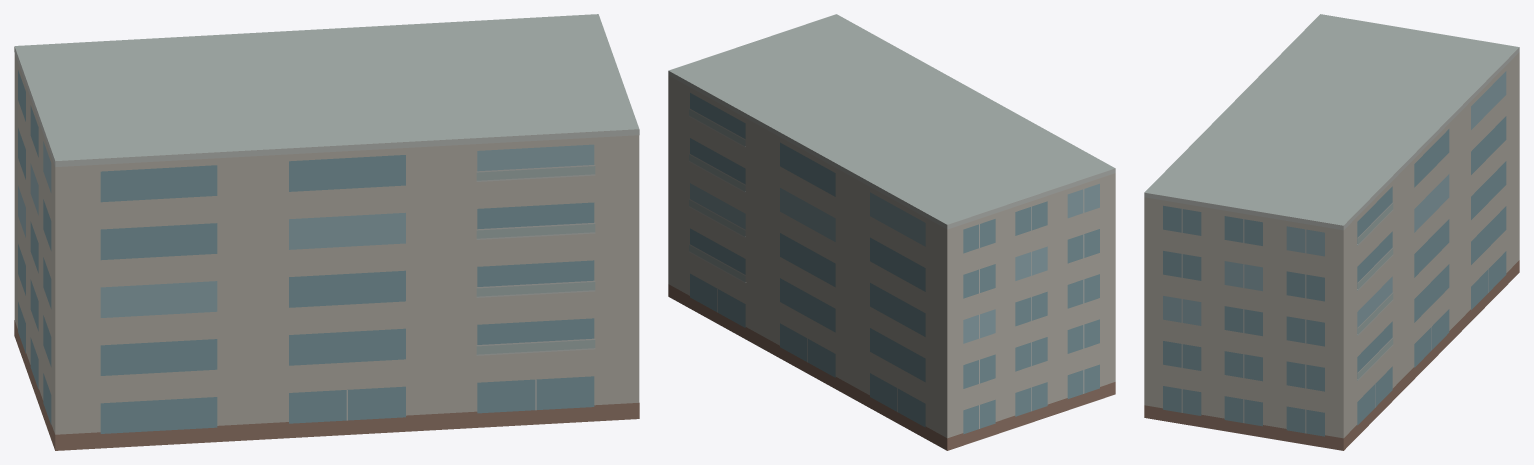
The model's file is survey-upis-32926838.glb.
The picture shows the model from 3 angles, left to right: view 1: azimuth 30°, elevation 25°; view 2: azimuth 150°, elevation 25°; view 3: azimuth 270°, elevation 25°; orthographic projection. The views are drawn at different scales.
Visible parts, largest first — view 1: survey-upis-32926838.tmp; view 2: survey-upis-32926838.tmp; view 3: survey-upis-32926838.tmp.
Boxes of the visible parts, left/top/right/bottom form: survey-upis-32926838.tmp: left=14, top=14, right=639, bottom=450; survey-upis-32926838.tmp: left=668, top=14, right=1115, bottom=450; survey-upis-32926838.tmp: left=1144, top=14, right=1519, bottom=450.
Bounding box in the file's own units: 23.7 × 11.75 × 17.76.
